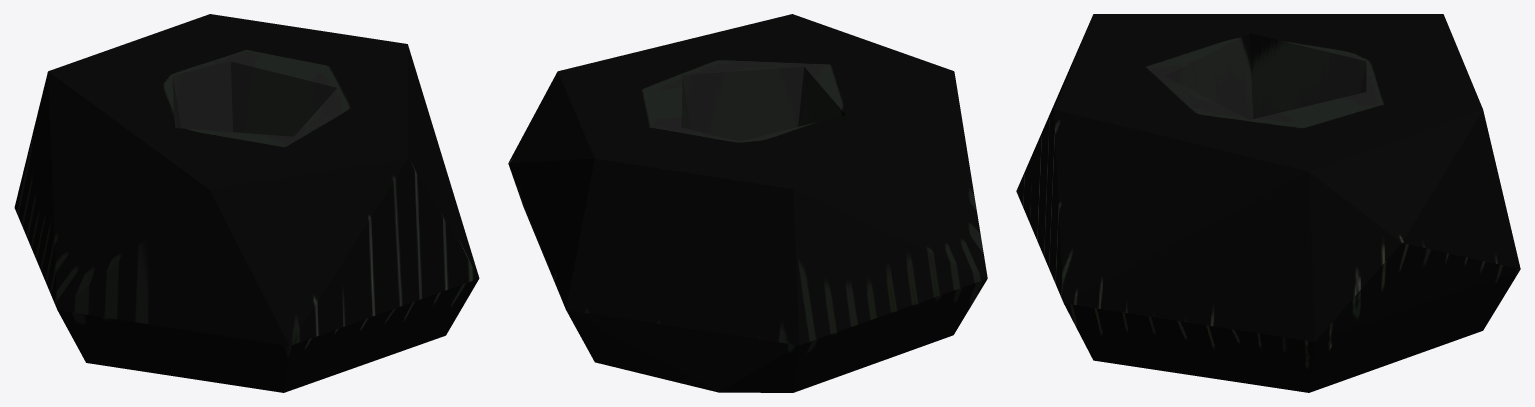
File: Wheel.glb
3 views of the same model, side by side, from view 1: azimuth 30°, elevation 25°; view 2: azimuth 150°, elevation 25°; view 3: azimuth 270°, elevation 25° (orthographic). The views are drawn at different scales.
Parts seen in each view (by area): view 1: Wheel; view 2: Wheel; view 3: Wheel.
Boxes of the visible parts, x1,y1,x2,y2 form: Wheel: (14,14,479,392); Wheel: (508,14,987,392); Wheel: (1016,14,1520,392).
Bounding box in the file's own units: 236 × 109 × 225.
1 material, 1 textured.
